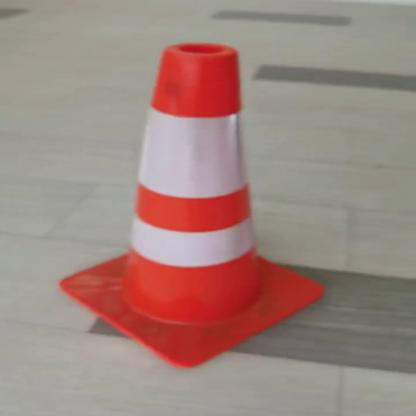cone: (54, 29, 326, 367)
